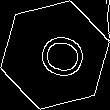O_W: (25, 27, 85, 83)
